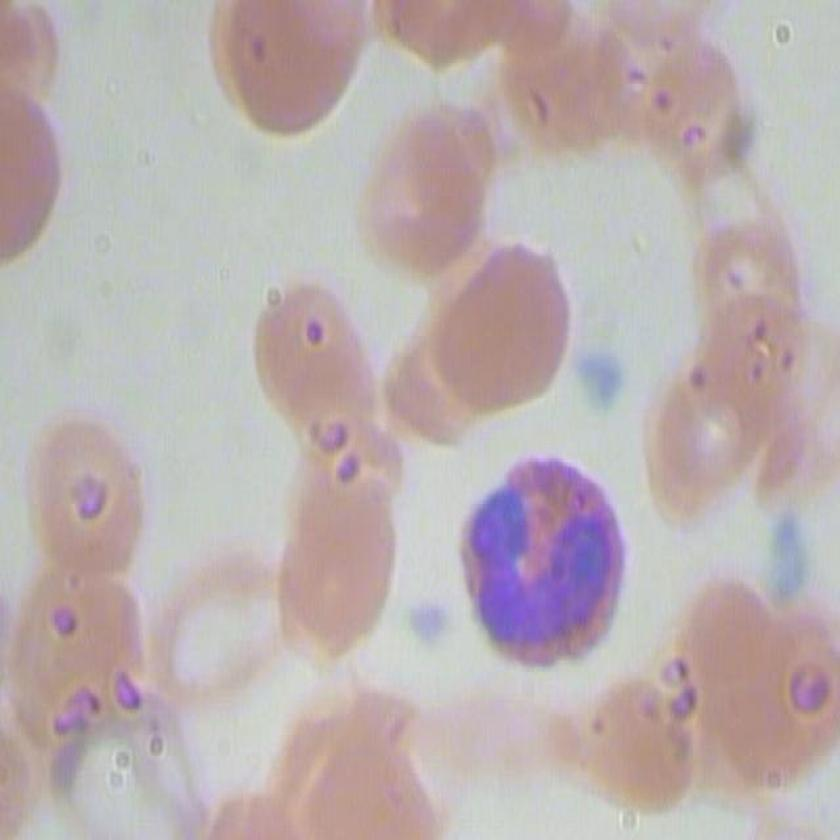eosinophil: (453, 448, 633, 679)
